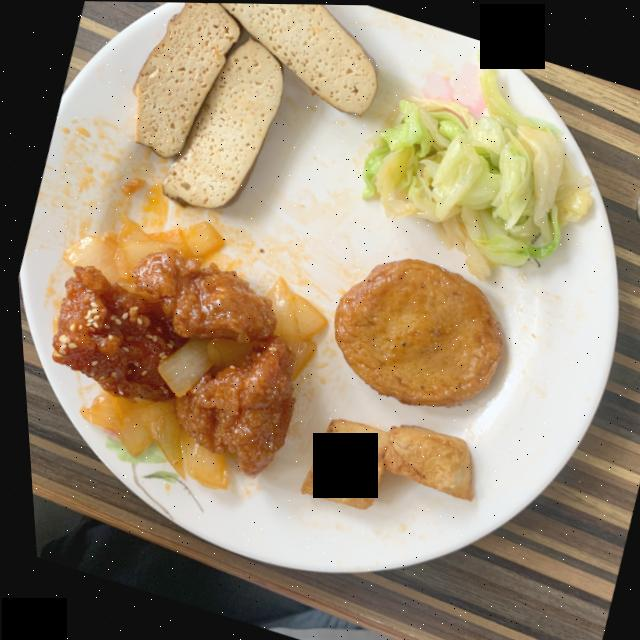cabbage: (359, 51, 588, 275)
coin: (633, 188, 640, 225)
firm tofu: (132, 2, 375, 207)
fish cake: (328, 257, 498, 406)
fried potato: (293, 418, 465, 508)
